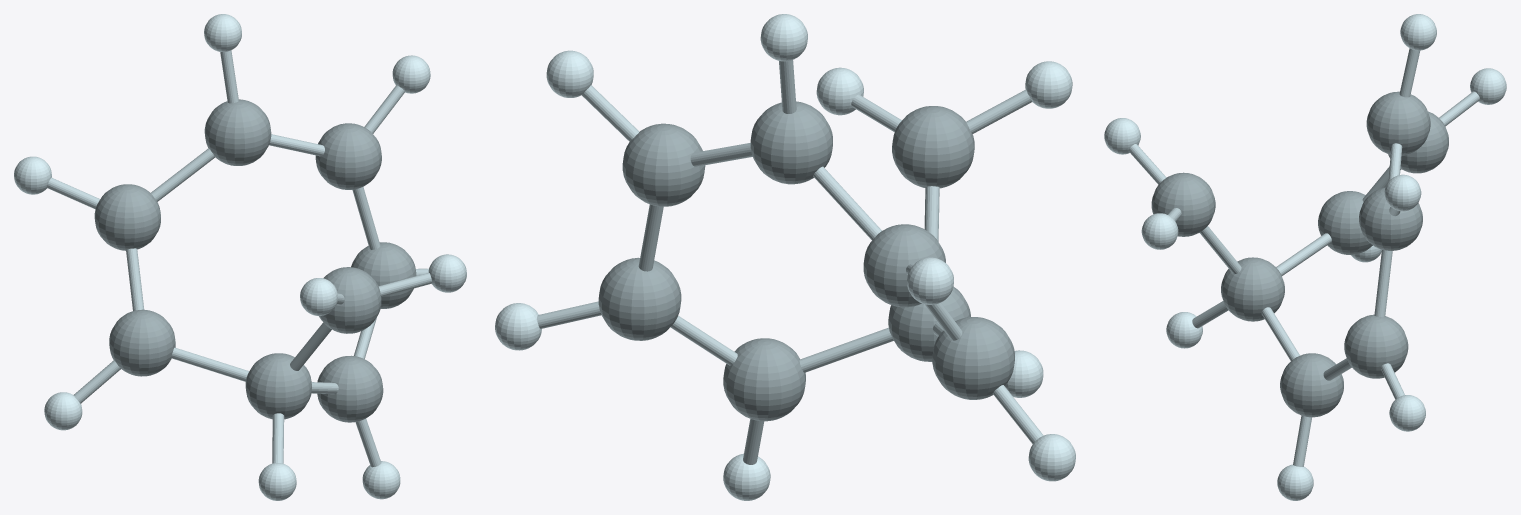
File: irc_step_099.glb
The picture shows the model from 3 angles, left to right: view 1: azimuth 30°, elevation 25°; view 2: azimuth 150°, elevation 25°; view 3: azimuth 270°, elevation 25°; orthographic projection. The views are drawn at different scales.
Visible parts, largest first — view 1: Renderer Node; view 2: Renderer Node; view 3: Renderer Node.
Boxes of the visible parts, x1=… form: Renderer Node: x1=14, y1=14, x2=466, y2=500; Renderer Node: x1=495, y1=14, x2=1075, y2=500; Renderer Node: x1=1104, y1=14, x2=1506, y2=500.
Bounding box in the file's own units: 5.31 × 5.28 × 4.38.
